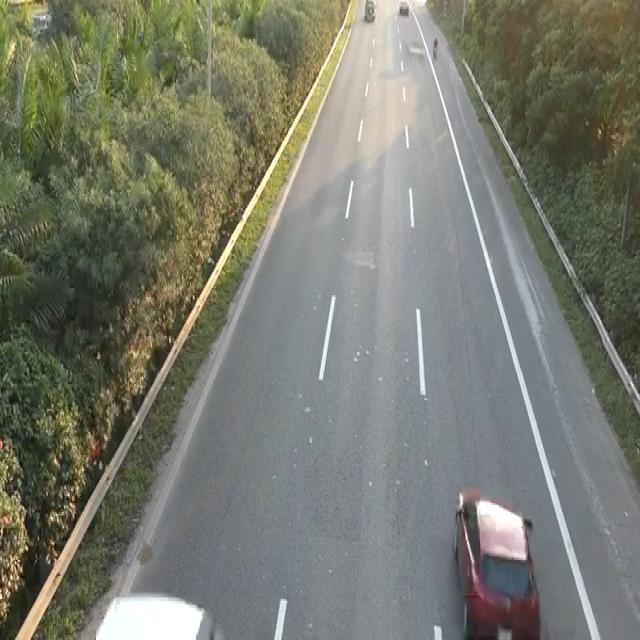bus: (450, 484, 543, 636)
car: (363, 0, 375, 21)
minibus: (431, 34, 439, 60)
